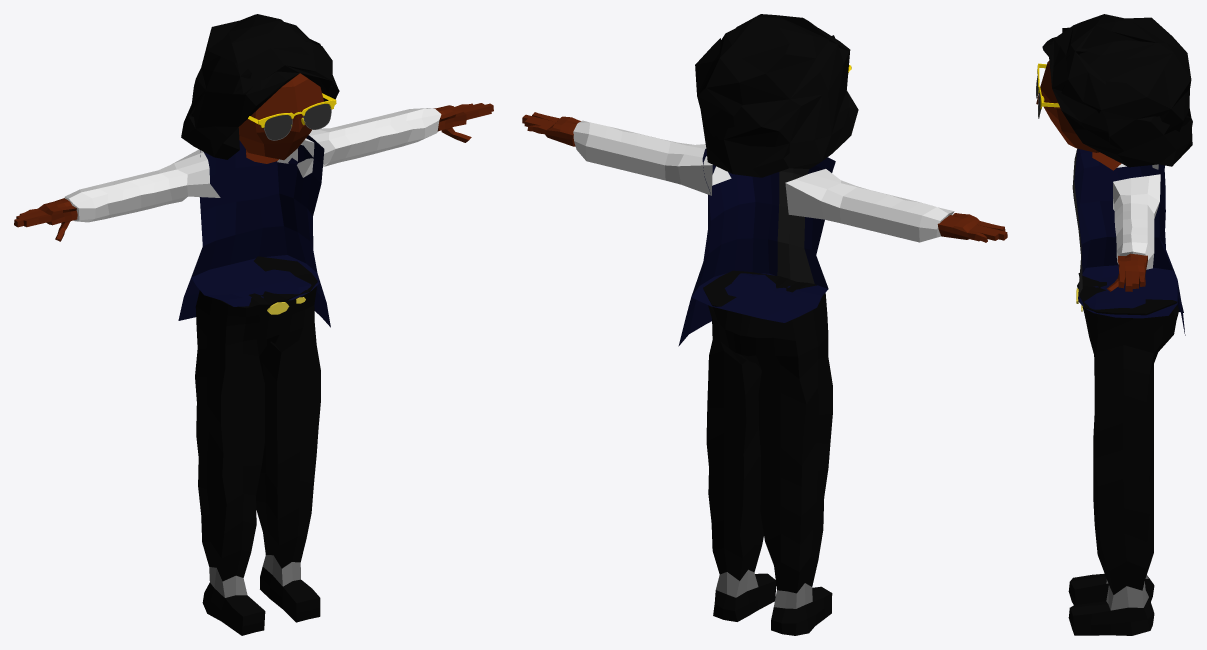
File: milesDavis.fbx
3 renders of one model, left to right at view 1: azimuth 30°, elevation 25°; view 2: azimuth 150°, elevation 25°; view 3: azimuth 270°, elevation 25°, orthographic.
Parts seen in each view (by area): view 1: hands; view 2: hands; view 3: hands.
Part boxes in pixels (x1,y1,x2,y2): hands: (14,14,493,635); hands: (522,14,1007,635); hands: (1036,14,1192,635).
Bounding box in the file's own units: 188 × 223 × 53.28.
